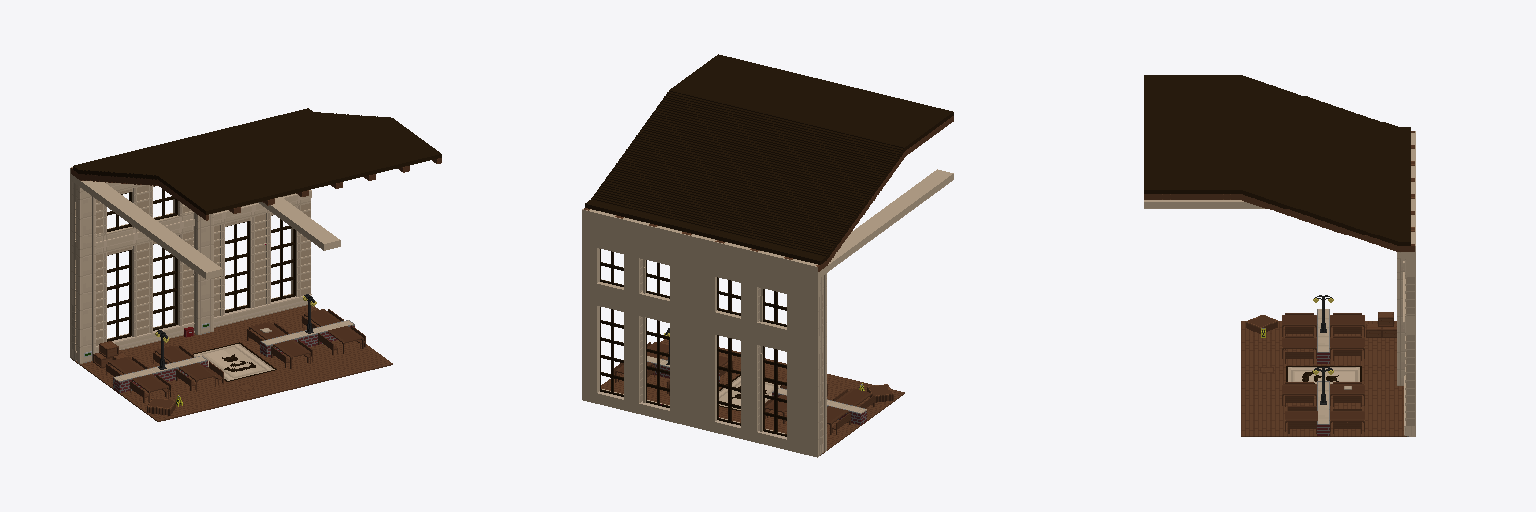
3 renders of one model, left to right at view 1: azimuth 30°, elevation 25°; view 2: azimuth 150°, elevation 25°; view 3: azimuth 270°, elevation 25°, orthographic.
Parts seen in each view (by area): view 1: Scene_Terrain_GuildLow_M; view 2: Scene_Terrain_GuildLow_M; view 3: Scene_Terrain_GuildLow_M.
Boxes of the visible parts, x1=… form: Scene_Terrain_GuildLow_M: x1=70, y1=108, x2=441, y2=421; Scene_Terrain_GuildLow_M: x1=582, y1=54, x2=953, y2=457; Scene_Terrain_GuildLow_M: x1=1144, y1=75, x2=1415, y2=436.
Size of the model in its own units: 25.6 by 25.6 by 25.6.
1 materials, 1 textured.